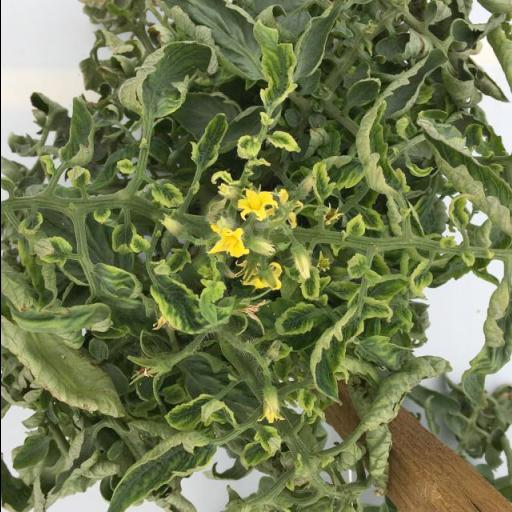Yellow Leaf Curl Virus: (115, 38, 217, 126), (308, 304, 364, 406), (354, 98, 406, 200), (148, 264, 218, 336), (252, 16, 298, 108), (162, 392, 237, 432), (56, 97, 95, 166), (88, 259, 140, 306), (189, 113, 227, 170), (274, 300, 317, 336), (31, 236, 73, 267), (308, 160, 336, 203), (153, 246, 191, 276), (408, 260, 432, 302), (447, 193, 473, 231), (238, 442, 272, 470), (151, 182, 184, 208), (110, 224, 136, 255), (253, 426, 281, 454), (362, 296, 392, 322), (267, 130, 301, 152)
